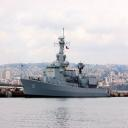Fragata: (21, 29, 112, 100)
